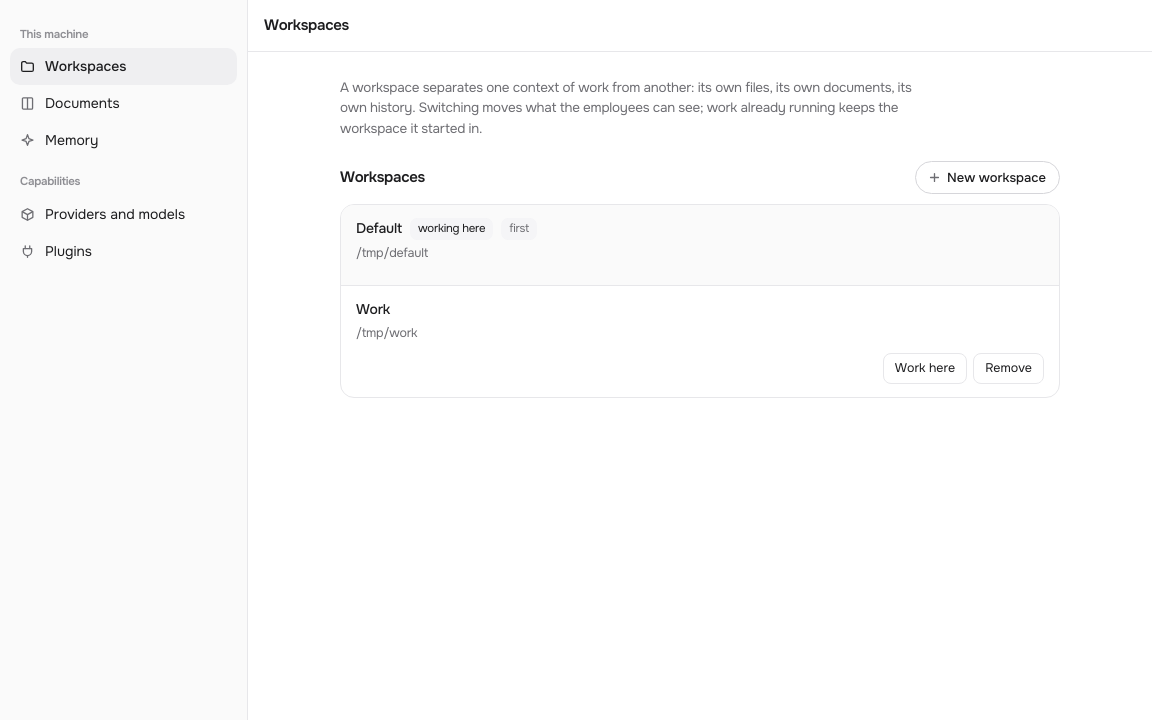
Test case: Settings → Workspaces › adds a workspace from a name, in a dialog asked for on purpose
Expected: the text "Work" is shown, [356,299,390,320]
Step 1. Click the button "New workspace" → click(988, 178), box [915,161,1060,194]
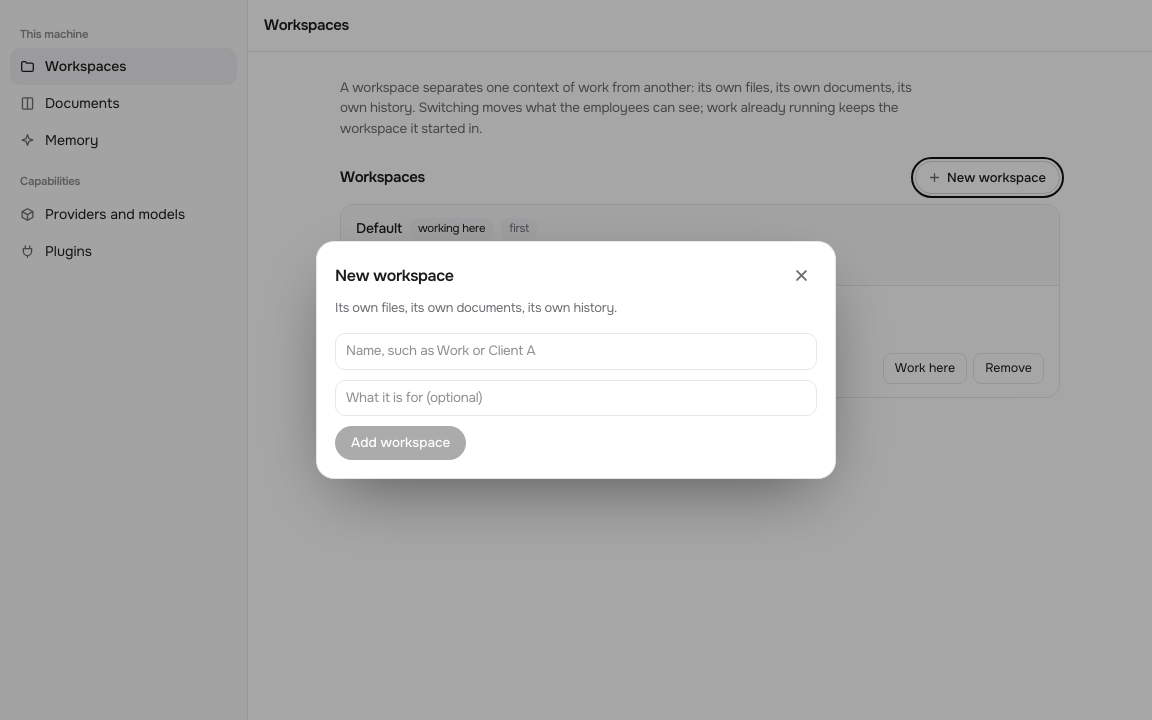
Step 2. Type "Client A" into the field named "Workspace name" → (576, 352), box [335,333,817,370]
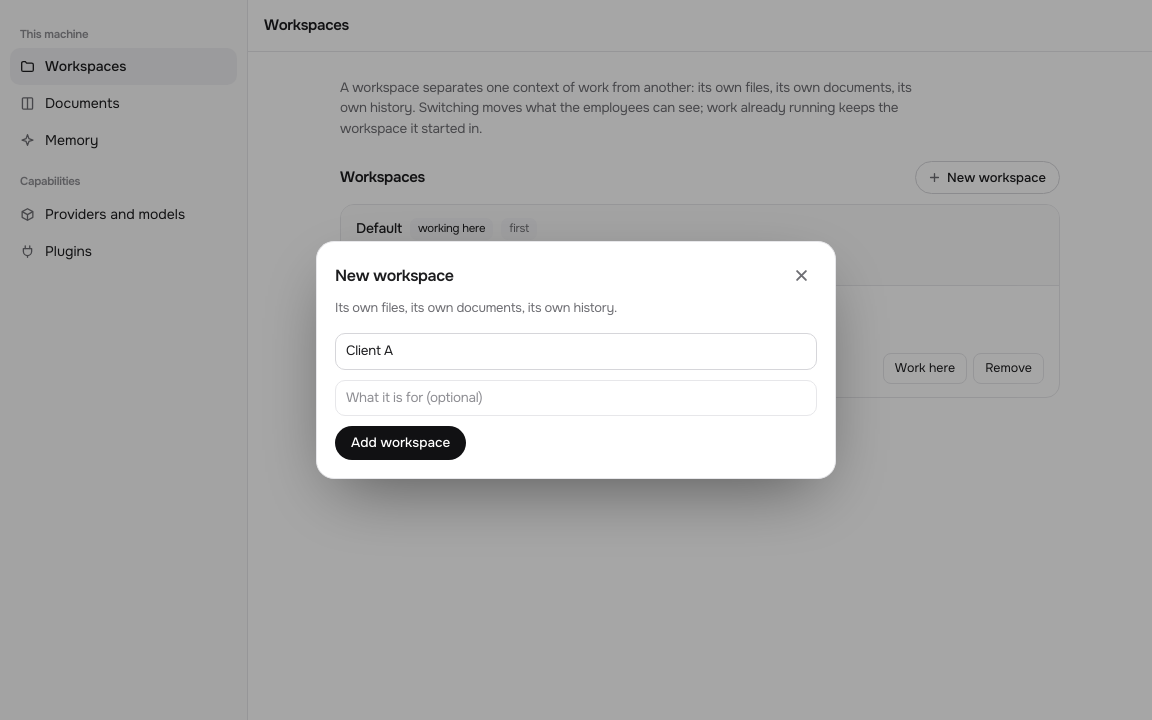
Step 3. Click the button "Add workspace" → click(401, 443), box [335,426,466,460]
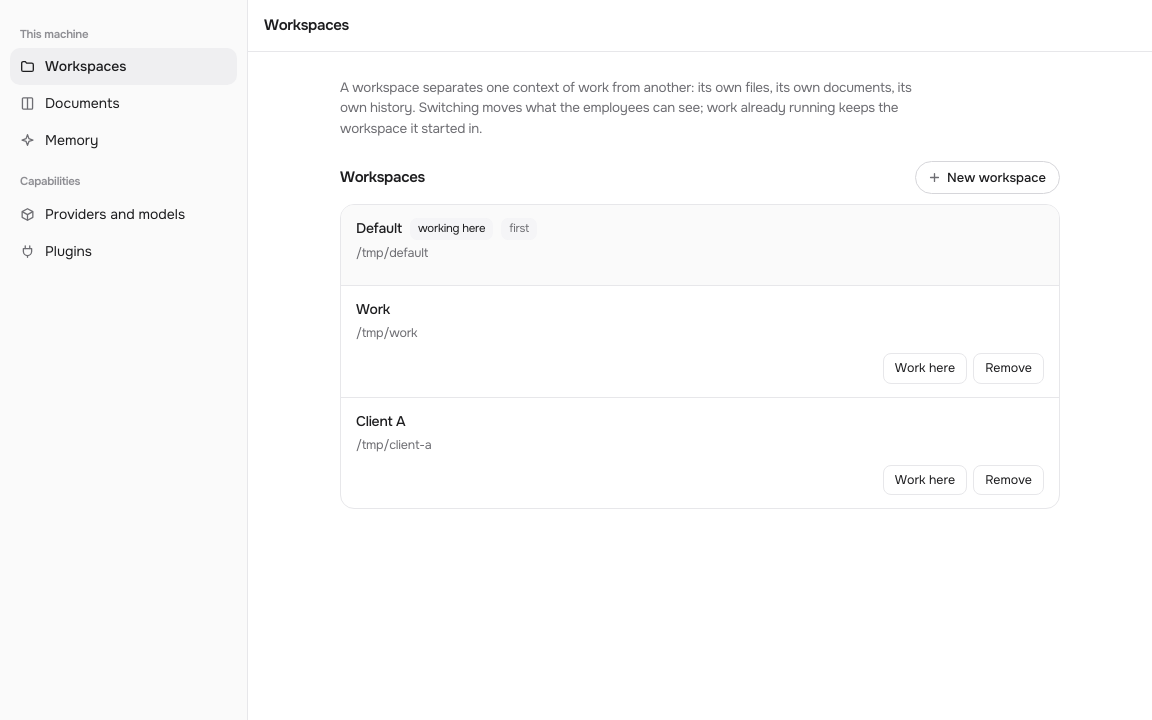
Expected: the field labelled "Workspace name" is not shown
Now the text "Client A" is shown, box [356,411,405,432]
